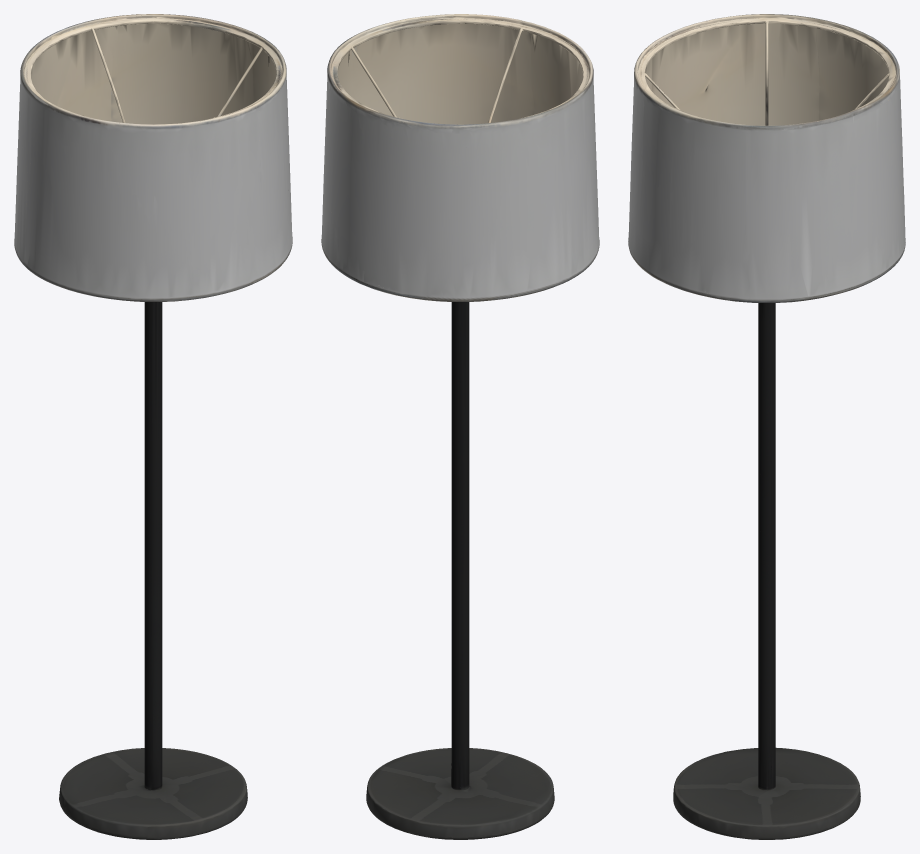
Rendered from FloorLamp.glb.
3 renders of one model, left to right at view 1: azimuth 30°, elevation 25°; view 2: azimuth 150°, elevation 25°; view 3: azimuth 270°, elevation 25°, orthographic.
Parts seen in each view (by area): view 1: node_0; view 2: node_0; view 3: node_0.
Boxes of the visible parts, x1,y1,x2,y2 form: node_0: (14, 14, 292, 839); node_0: (321, 14, 599, 839); node_0: (628, 14, 905, 839).
Size of the model in its own units: 0.3969 by 1.14 by 0.3925.
Materials: 1 (1 with a texture image).
